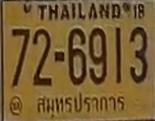1: (115, 27, 122, 85)
2: (32, 28, 50, 85)
3: (128, 26, 148, 82)
6: (67, 27, 86, 84)
7: (11, 28, 29, 88)
9: (88, 28, 106, 84)
SPK: (35, 90, 127, 119)
